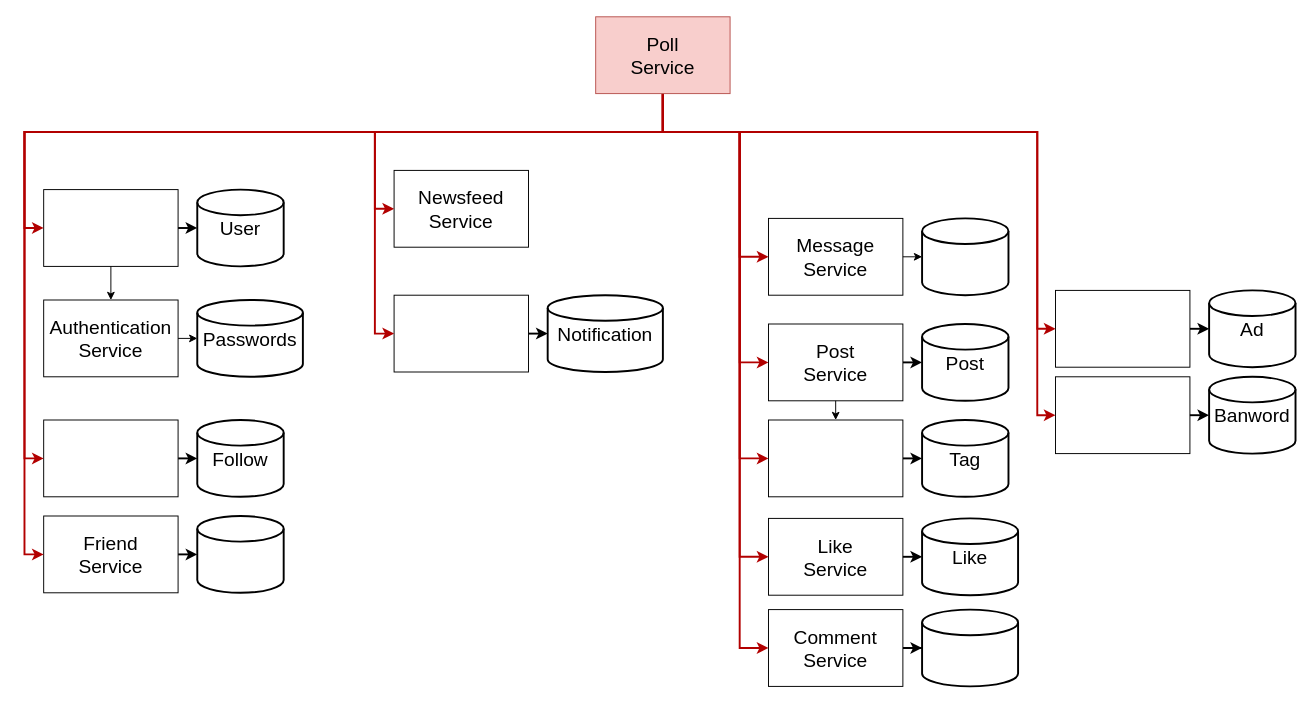
This 1312x704 diagram has some shape labels left out. The centre of each missing label's shape, as x and y in pixels:
Ad Service: the point at 1122,328
Anti-Cyberbullying Service: the point at 1122,415
Comment: the point at 970,647
Follow Service: the point at 110,458
Friend: the point at 240,554
Message: the point at 965,256
Notification Service: the point at 460,333
Tag Service: the point at 835,458
User Service: the point at 110,227
